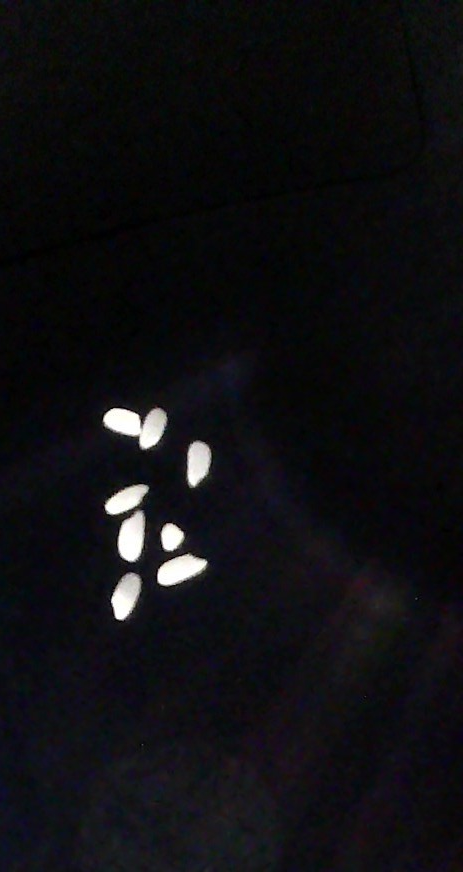broken_grain: (277, 518, 294, 576)
complete_grain: (293, 467, 313, 580), (303, 597, 332, 674), (270, 593, 298, 657), (232, 467, 261, 527), (256, 586, 274, 680), (215, 548, 240, 610), (216, 597, 232, 684)
